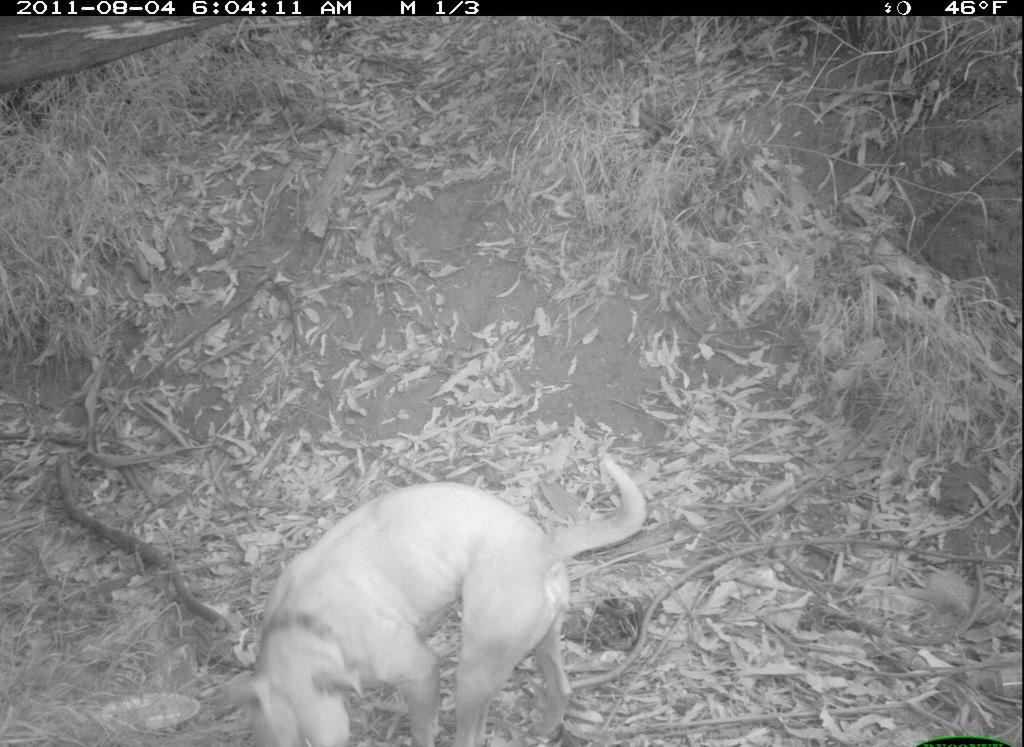dog: (235, 442, 653, 742)
